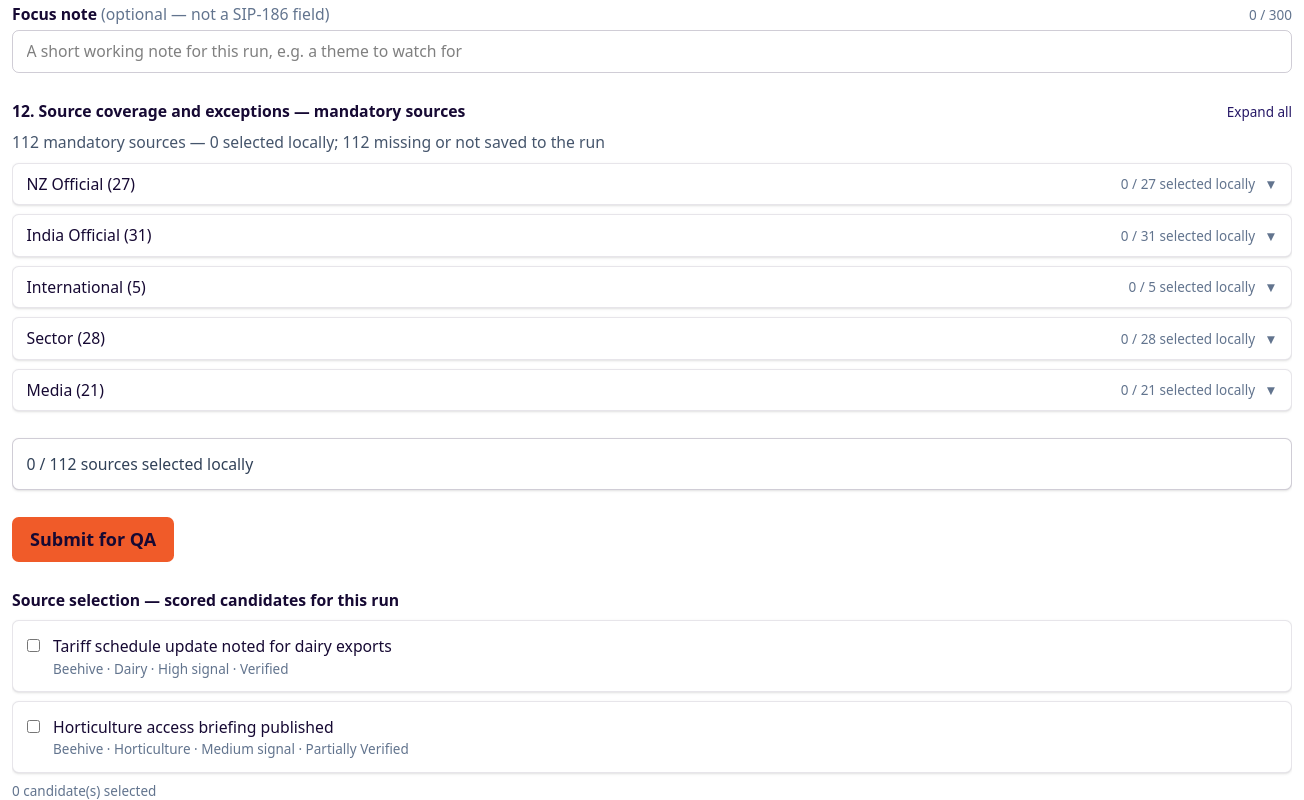
it: BriefBuilderScreen › lists the working run's candidates for selection and tracks the count selected
(page scrolled)
Expected: the text "0 candidate(s) selected" is shown, [12,782,156,799]
Click the 1st checkbox.
click(33, 646)  # box [26,640,40,652]
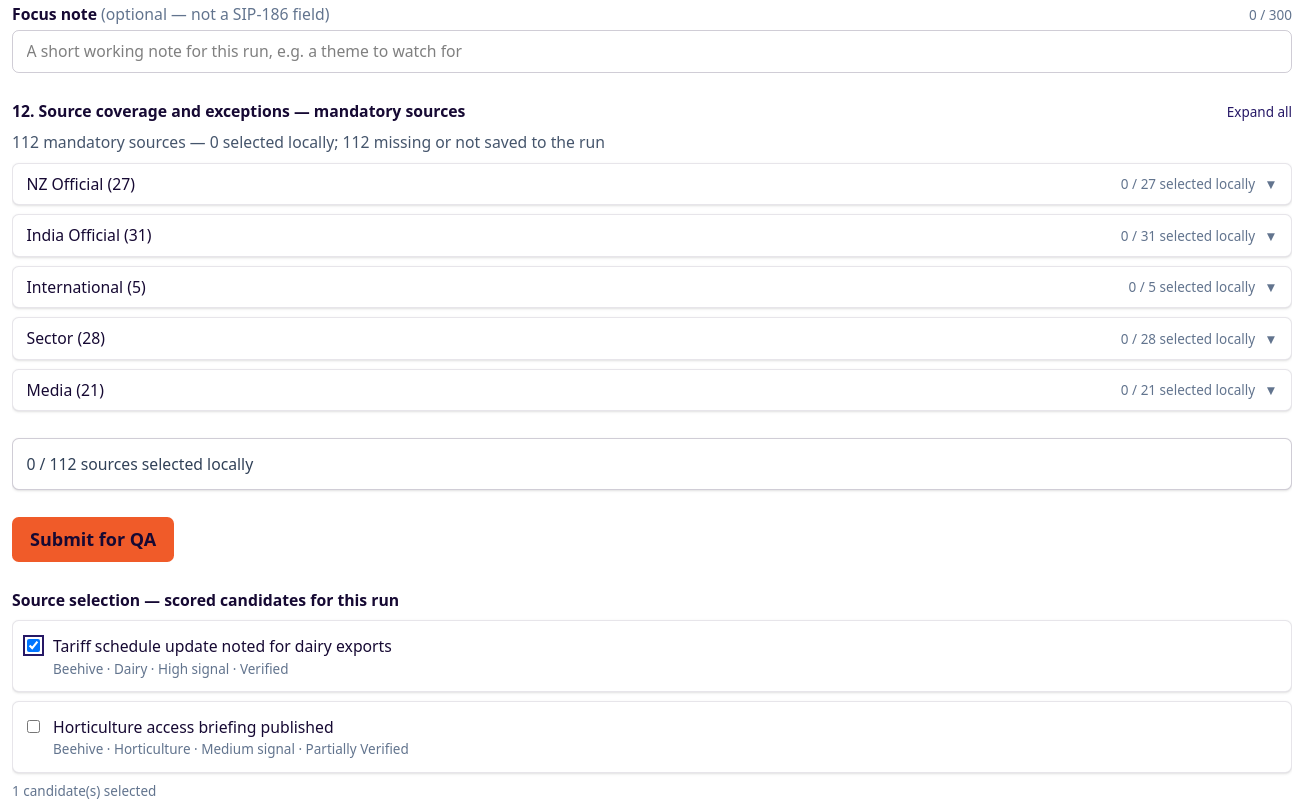
Expected: the text "1 candidate(s) selected" is shown, [12,782,156,799]
